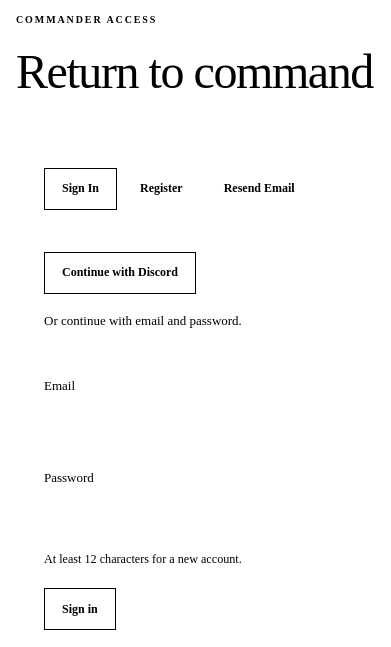
Test: Discord sign-in › is available for sign-in and registration, not verification resend
Expected: the button "Continue with Discord" is shown, [44,252,196,294]
Click the button "Register" at (161, 189), box [122,168,201,210]
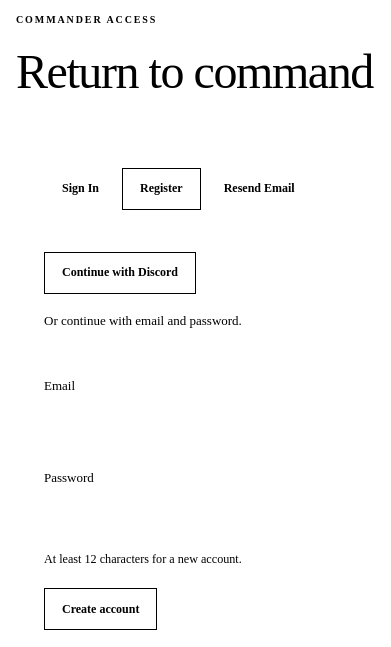
Expected: the button "Continue with Discord" is shown, [44,252,196,294]
Click the button "Resend email" at (259, 189), box [206,168,313,210]
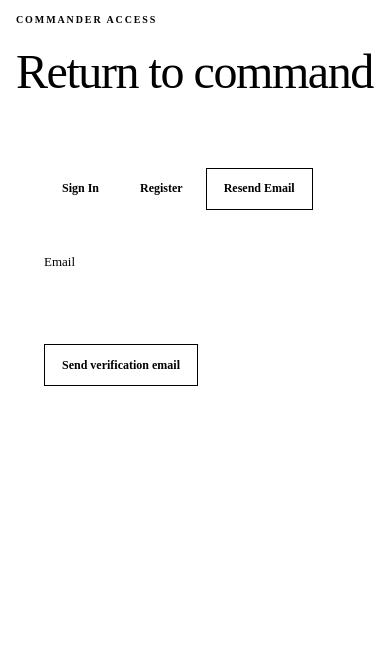
Now the button "Continue with Discord" is gone
